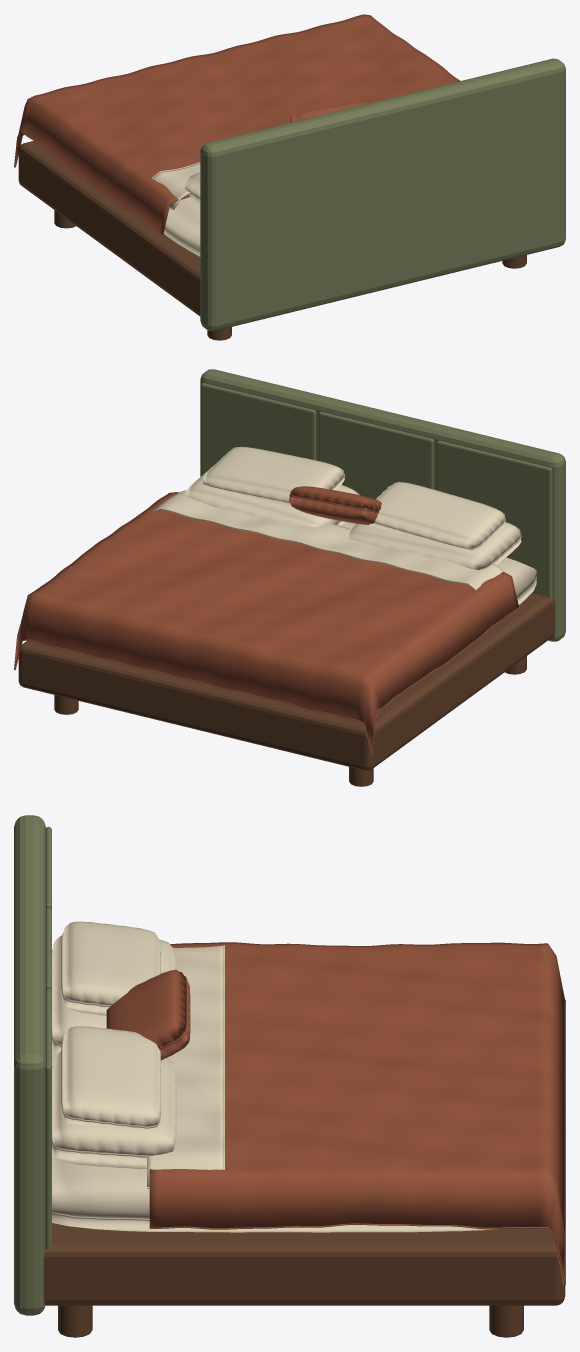
Rendered from bed.glb.
3 renders of one model, top to bottom at view 1: azimuth 30°, elevation 25°; view 2: azimuth 150°, elevation 25°; view 3: azimuth 270°, elevation 25°, orthographic. The views are drawn at different scales.
Visible parts, largest first — view 1: bed__fabric_sage, bed__fabric_terracotta, bed__wood_walnut, bed__fabric_linen; view 2: bed__fabric_terracotta, bed__fabric_sage, bed__wood_walnut, bed__fabric_linen, bed__seam_linen; view 3: bed__fabric_terracotta, bed__fabric_linen, bed__wood_walnut, bed__fabric_sage, bed__seam_linen.
Boxes of the visible parts, x1,y1,x2,y2 form: bed__fabric_sage: [200, 58, 565, 331]; bed__fabric_terracotta: [14, 14, 460, 234]; bed__wood_walnut: [18, 141, 526, 340]; bed__fabric_linen: [152, 162, 200, 256]; bed__fabric_terracotta: [14, 486, 519, 756]; bed__fabric_sage: [200, 369, 565, 641]; bed__wood_walnut: [18, 593, 555, 786]; bed__fabric_linen: [152, 446, 536, 604]; bed__seam_linen: [203, 473, 536, 599]; bed__fabric_terracotta: [106, 942, 565, 1285]; bed__fabric_linen: [52, 921, 497, 1232]; bed__wood_walnut: [43, 1223, 565, 1337]; bed__fabric_sage: [14, 815, 51, 1315]; bed__seam_linen: [52, 933, 160, 1220].
Size of the model in its own units: 2.2 by 1.22 by 2.07.
